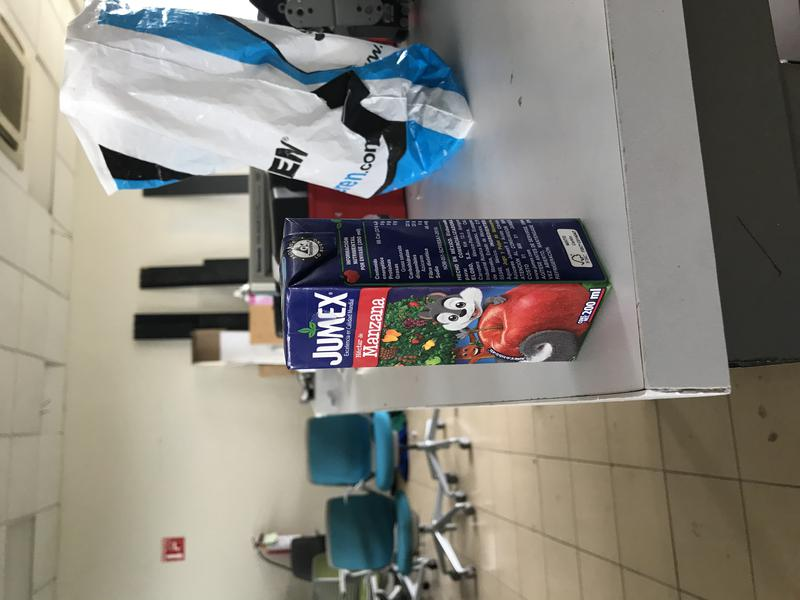jumex_cajita: (279, 216, 611, 372)
